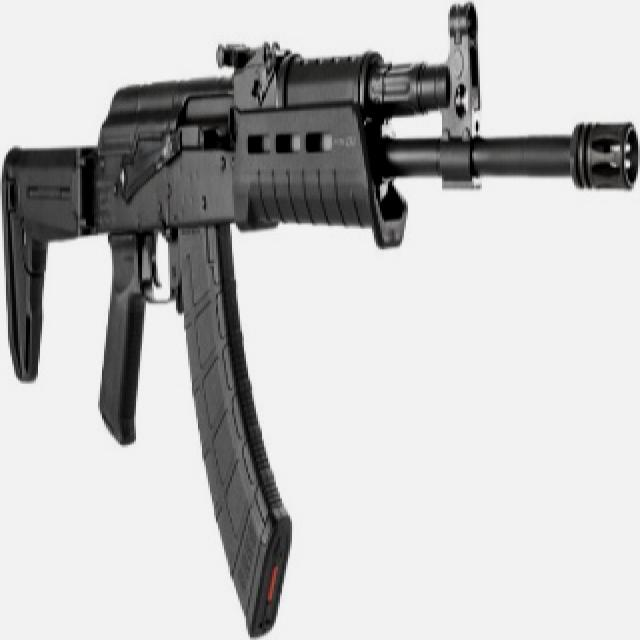long weapon: (2, 4, 638, 636)
